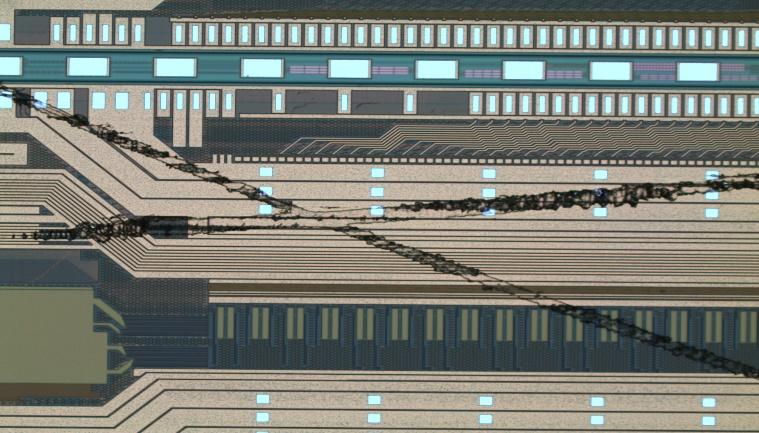SCRATCH: (1, 79, 759, 390), (1, 168, 759, 255)
